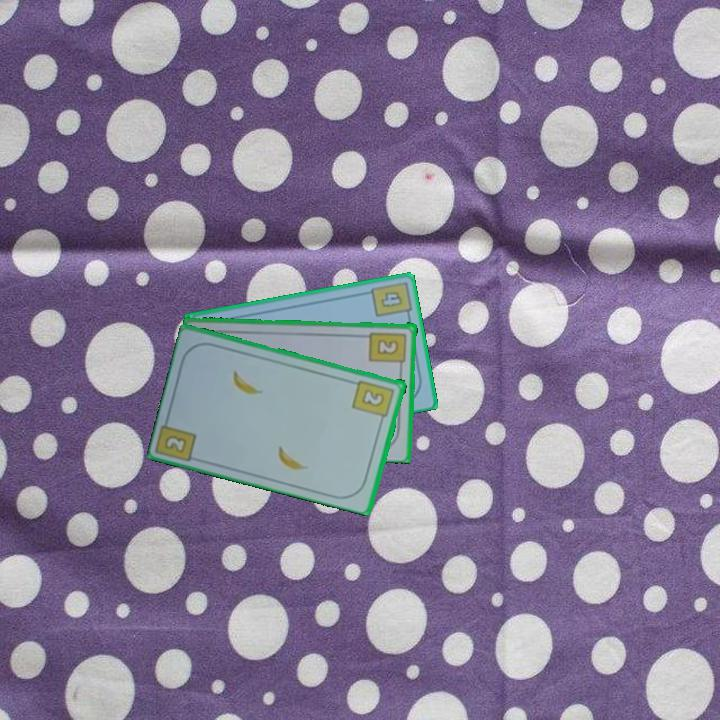2b: (350, 376, 397, 425), (367, 328, 409, 371), (161, 431, 190, 456)
4b: (367, 278, 414, 321)
